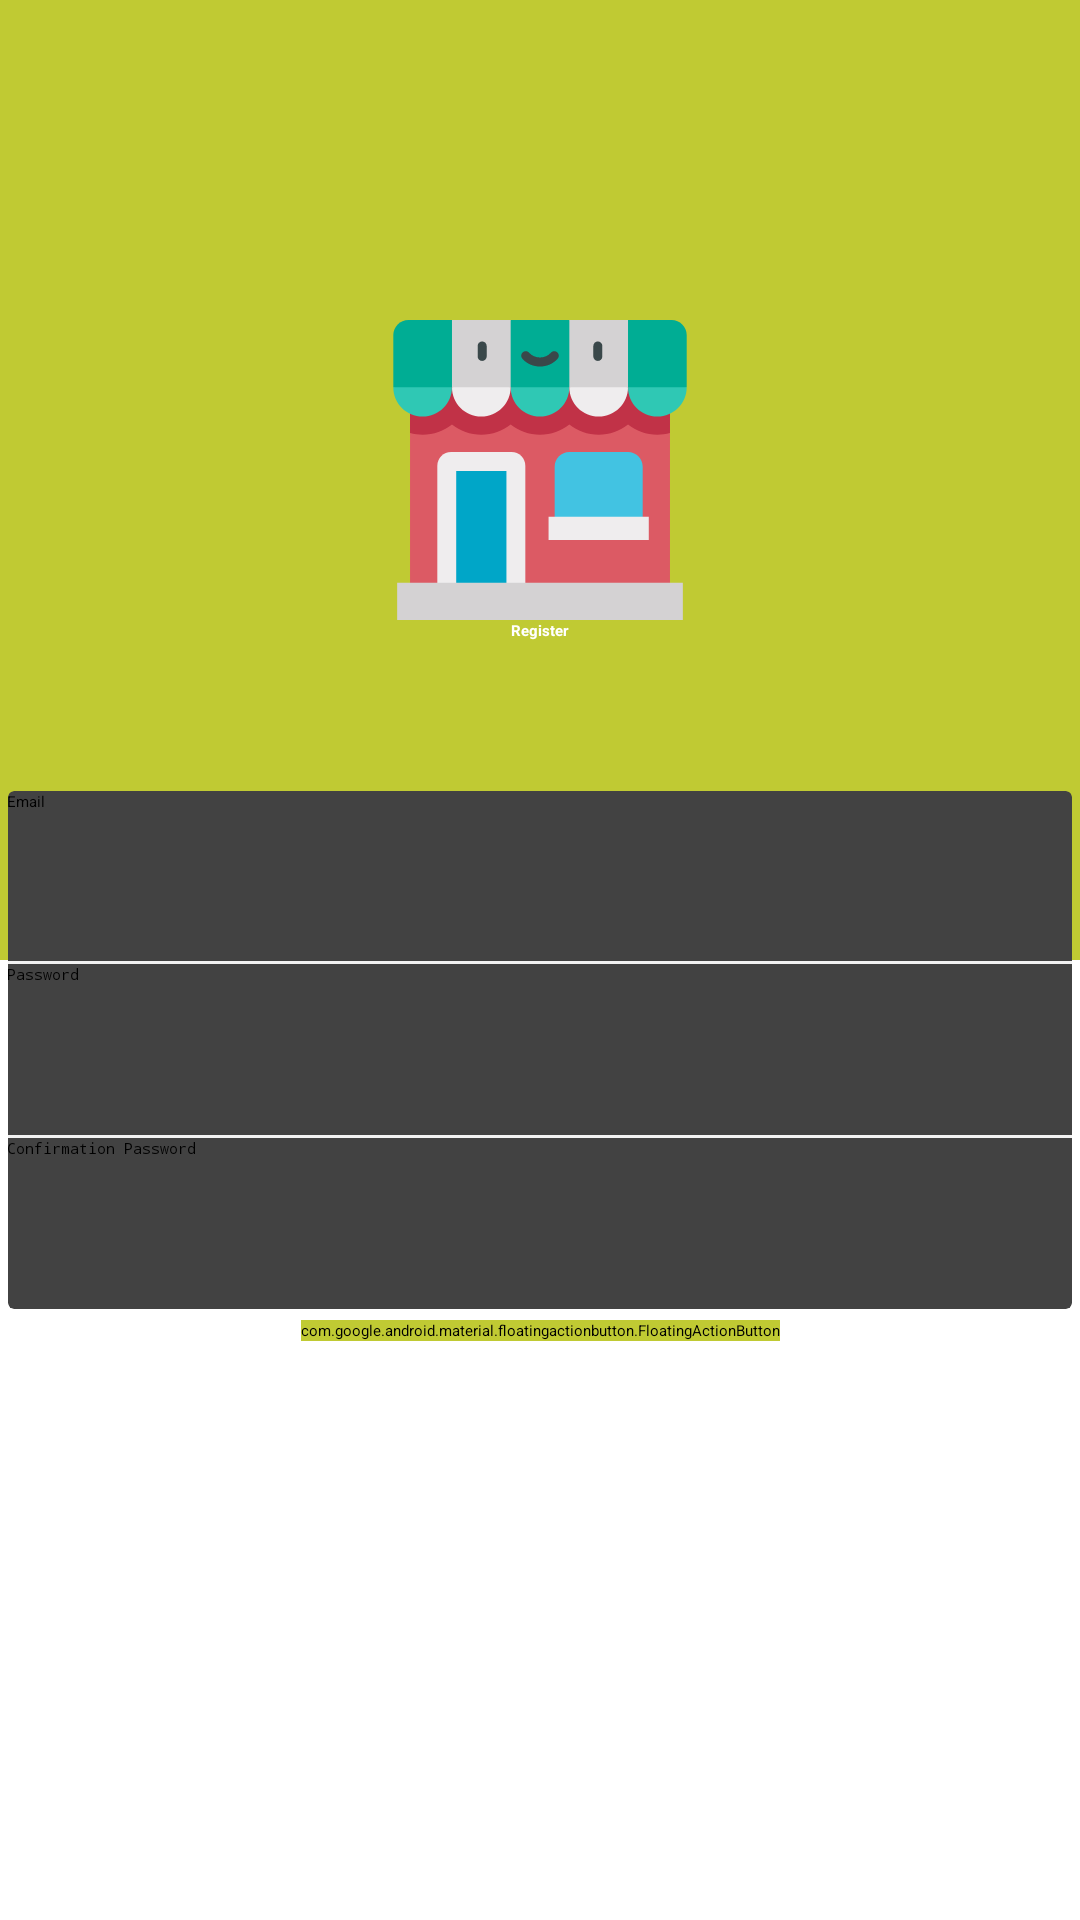

Icon bounding boxes for this 1080x1920 phone screenshot, format region(x1, y1, x2, y2):
shop: region(393, 320, 687, 620)
